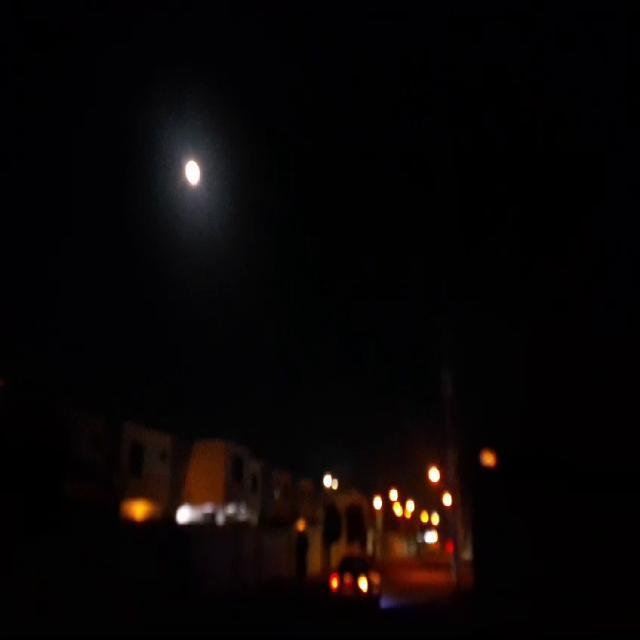moon: (183, 157, 203, 191)
